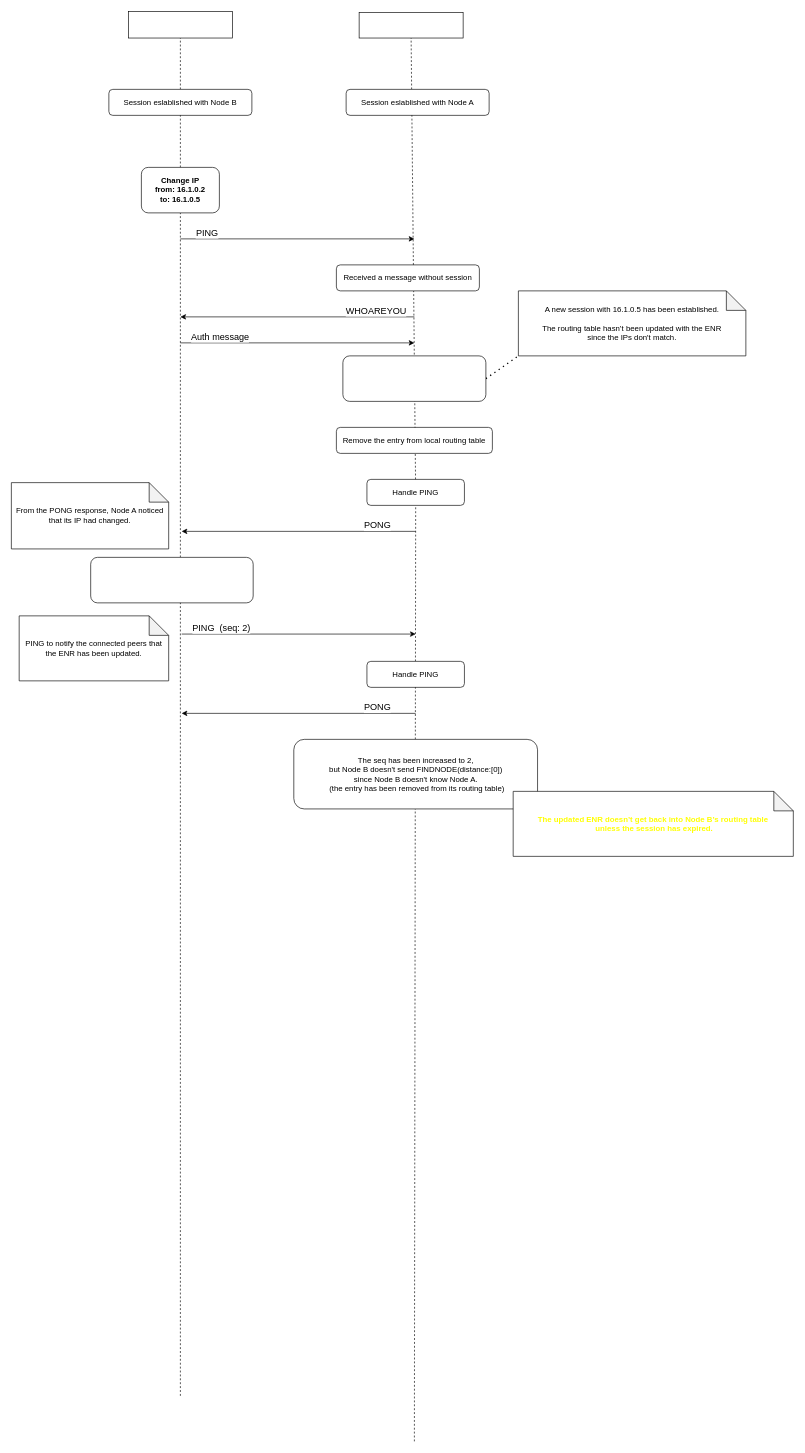
The diagram is 805 pixels wide and 1453 high, and some of its shapes have lost their labels. The shapes that lost their labels are listed below. From the top down, each one's centre as x and y in pixels, then its label:
At (180,24): "Node A".
At (410,25): "Node B".
At (414,378): "Session has invalid ENR enr.upp4_socket: 16.1.0.2 src: 16.1.0.5".
At (171,580): "Update ENR udp4_socket: 16.1.0.2 -> 16.1.0.5 seq: 1 -> 2".
